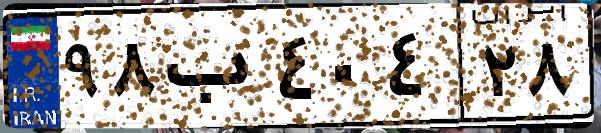0: (330, 28, 385, 110)
2: (475, 38, 525, 113)
4: (270, 28, 330, 110), (385, 28, 445, 110)
8: (525, 38, 570, 115), (110, 28, 158, 98)
9: (57, 26, 110, 100)
ب: (158, 20, 270, 120)
